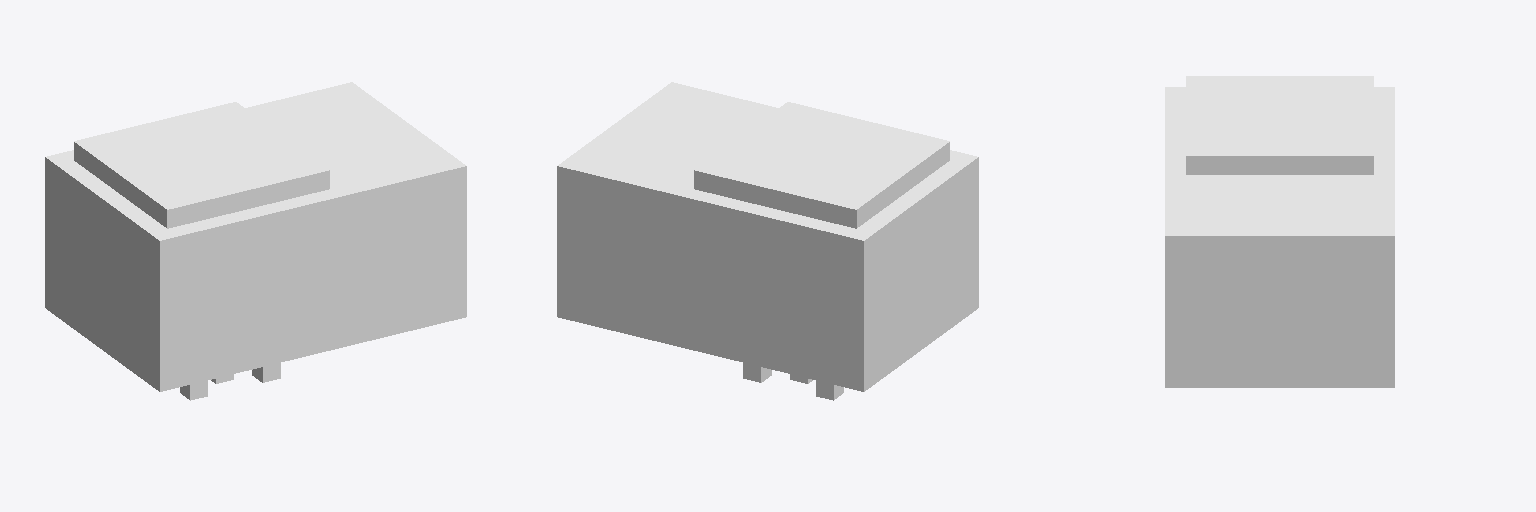
The model's file is Animals-44.obj.
3 renders of one model, left to right at view 1: azimuth 30°, elevation 25°; view 2: azimuth 150°, elevation 25°; view 3: azimuth 270°, elevation 25°, orthographic.
Visible parts, largest first — view 1: object 1; view 2: object 1; view 3: object 1.
Part boxes in pixels (x1,y1,x2,y2): object 1: (45,82,466,400); object 1: (557,82,978,400); object 1: (1165,76,1394,387).
Size of the model in its own units: 1.7 by 1.2 by 1.1.